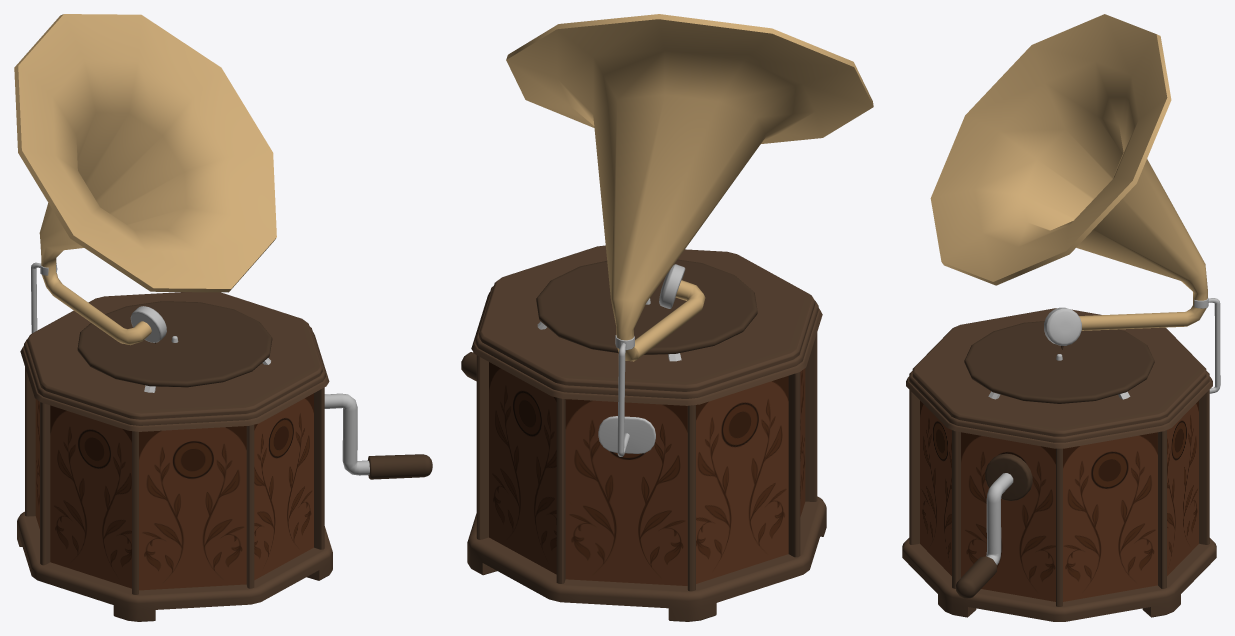
Rendered from Gramaphone.fbx.
3 views of the same model, side by side, from view 1: azimuth 30°, elevation 25°; view 2: azimuth 150°, elevation 25°; view 3: azimuth 270°, elevation 25° (orthographic). The views are drawn at different scales.
Visible parts, largest first — view 1: Gramaphone1:GramaphoneBase, Gramaphone1:Gam_Sides; view 2: Gramaphone1:GramaphoneBase, Gramaphone1:Gam_Sides, Gramaphone1:Holderpiece; view 3: Gramaphone1:GramaphoneBase, Gramaphone1:Gam_Sides.
Part boxes in pixels (bbox=[...]): Gramaphone1:GramaphoneBase: bbox=[14, 14, 432, 621]; Gramaphone1:Gam_Sides: bbox=[35, 393, 313, 590]; Gramaphone1:GramaphoneBase: bbox=[461, 14, 873, 621]; Gramaphone1:Gam_Sides: bbox=[489, 362, 805, 585]; Gramaphone1:Holderpiece: bbox=[598, 416, 655, 453]; Gramaphone1:GramaphoneBase: bbox=[902, 14, 1220, 621]; Gramaphone1:Gam_Sides: bbox=[920, 400, 1198, 601].
Bounding box in the file's own units: 0.971 × 1.27 × 0.7287.
5 materials, 1 textured.
